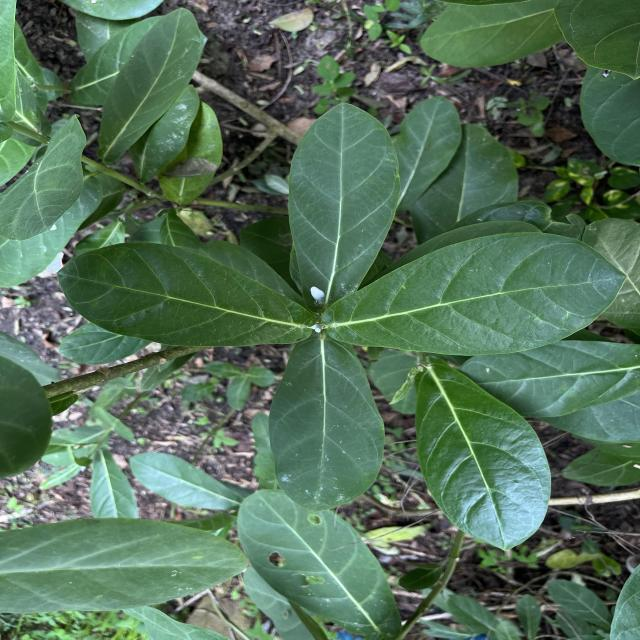Calotropis gigantea: (320, 230, 630, 357), (55, 240, 316, 348), (414, 355, 554, 553), (236, 488, 402, 640), (287, 101, 403, 310), (266, 338, 388, 514), (96, 5, 200, 164), (457, 339, 640, 419), (395, 94, 463, 210)
